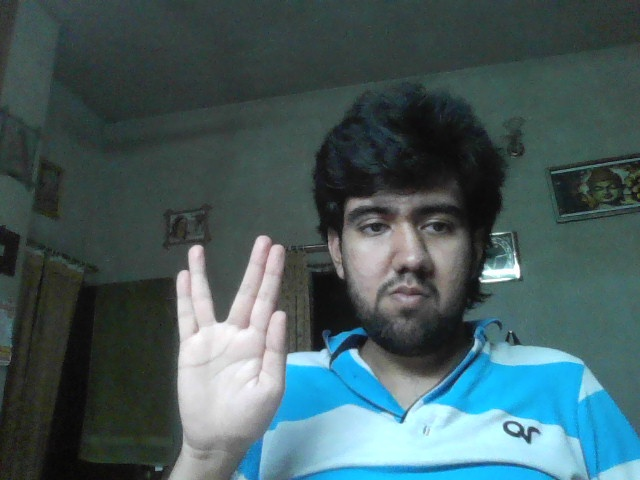LiveLong: (176, 235, 288, 448)
